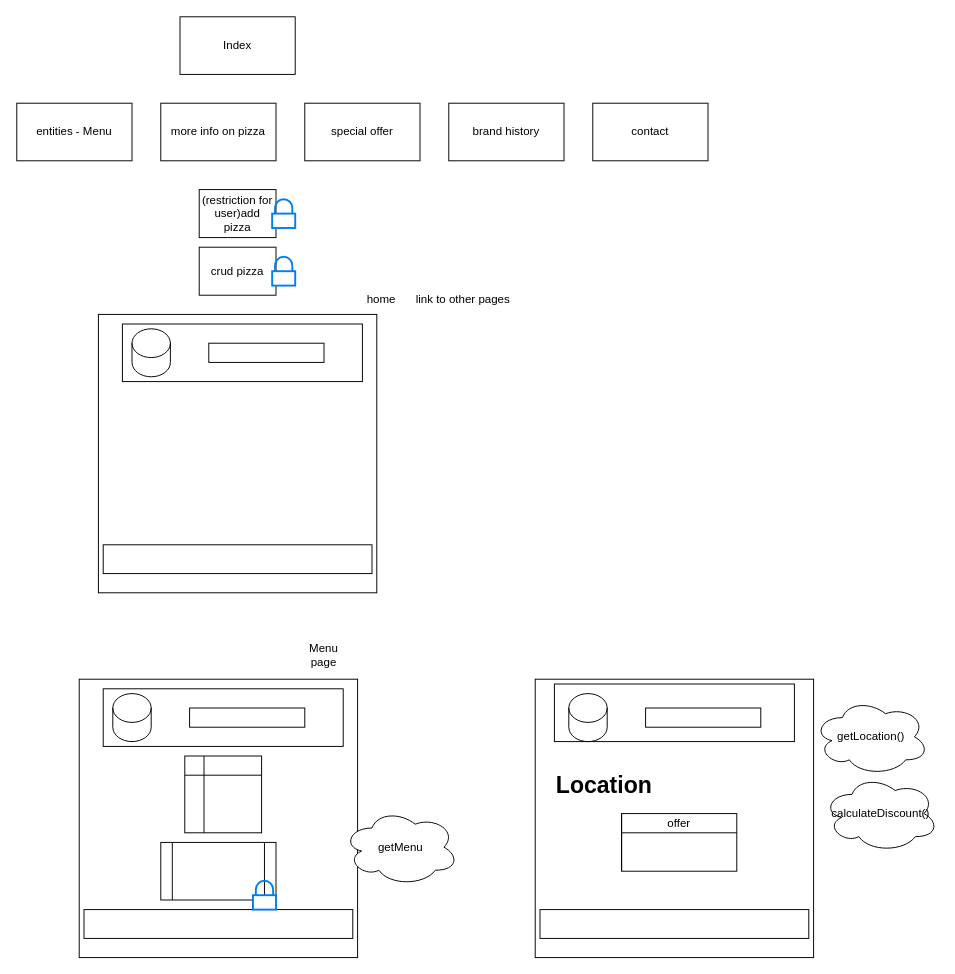
Image size: 955x974. Some labels were removed from this diagram. Here are the shapes that lost their labels. From the top down, the box of each, then its label:
(184, 755, 262, 833): item 1 item2
(621, 813, 737, 871): item1
(160, 841, 276, 900): crub operator
